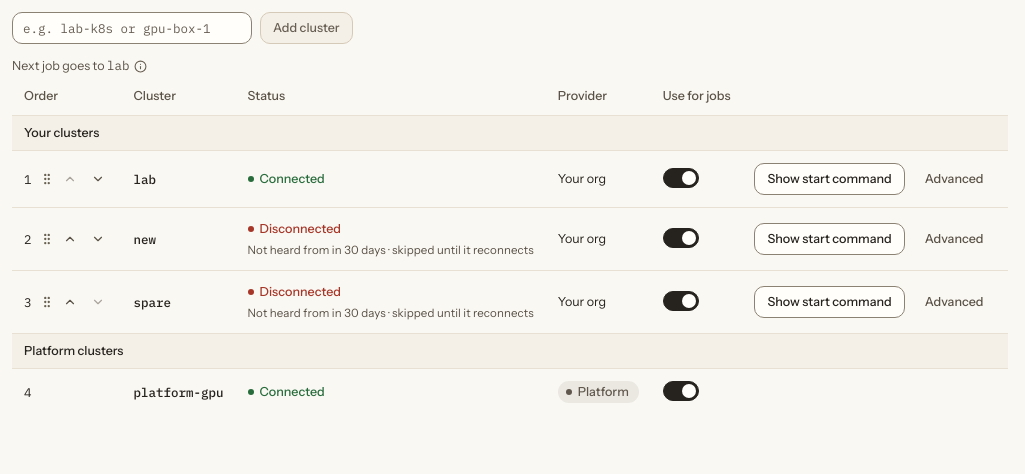
Scenario: the order of the org's own clusters › goes back to what it was when the API refuses, with the refusal
What coordinates should you click on to do the following:
click the button named "Move new up"
I would click on:
 (70, 239)
Its box is x1=58 y1=227 x2=82 y2=251.
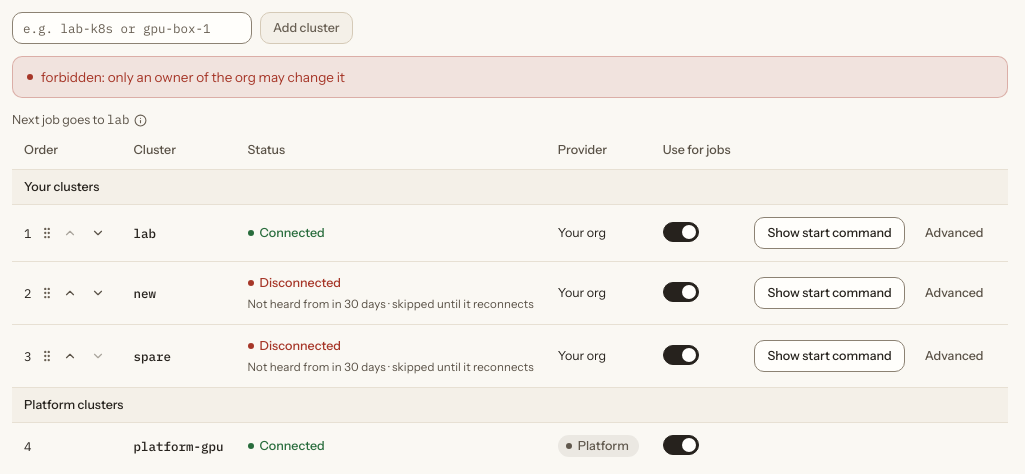
Expected: the text "forbidden: only an owner of the org may change it" is shown, x1=41 y1=67 x2=345 y2=87
